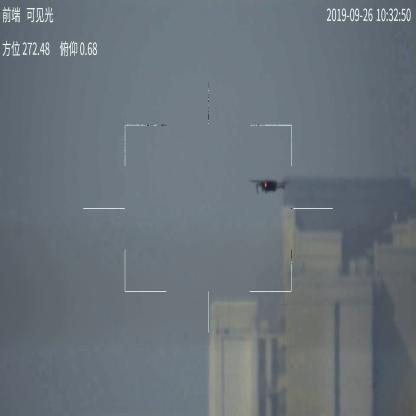uav: (251, 176, 293, 195)
